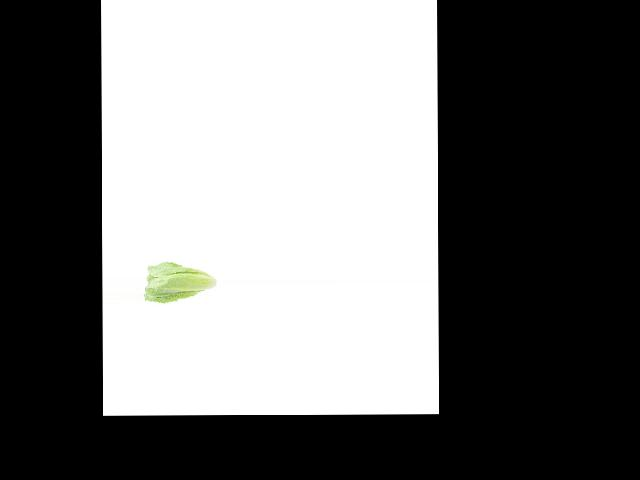lettuce: (143, 256, 216, 305)
